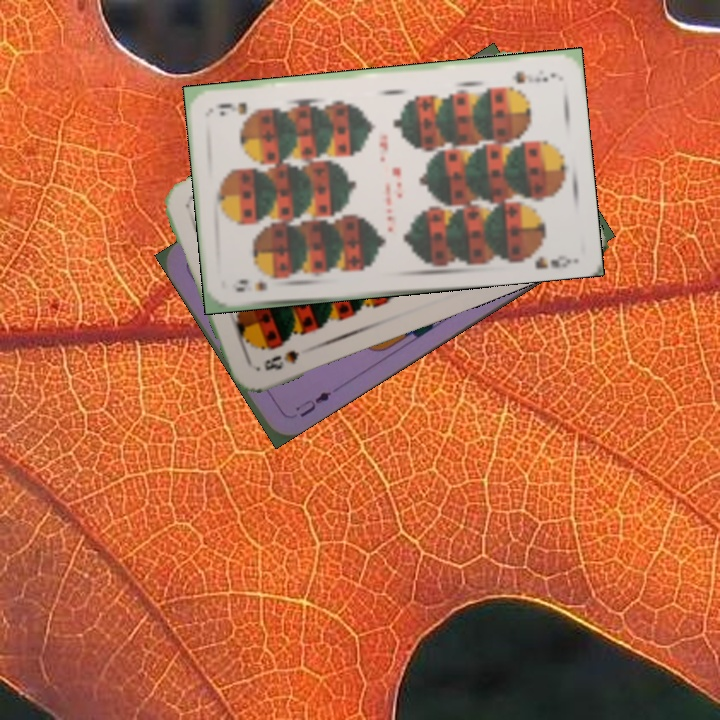EU: (291, 387, 334, 420)
S8: (259, 345, 302, 373)
S9: (509, 67, 558, 86), (232, 275, 270, 295)
